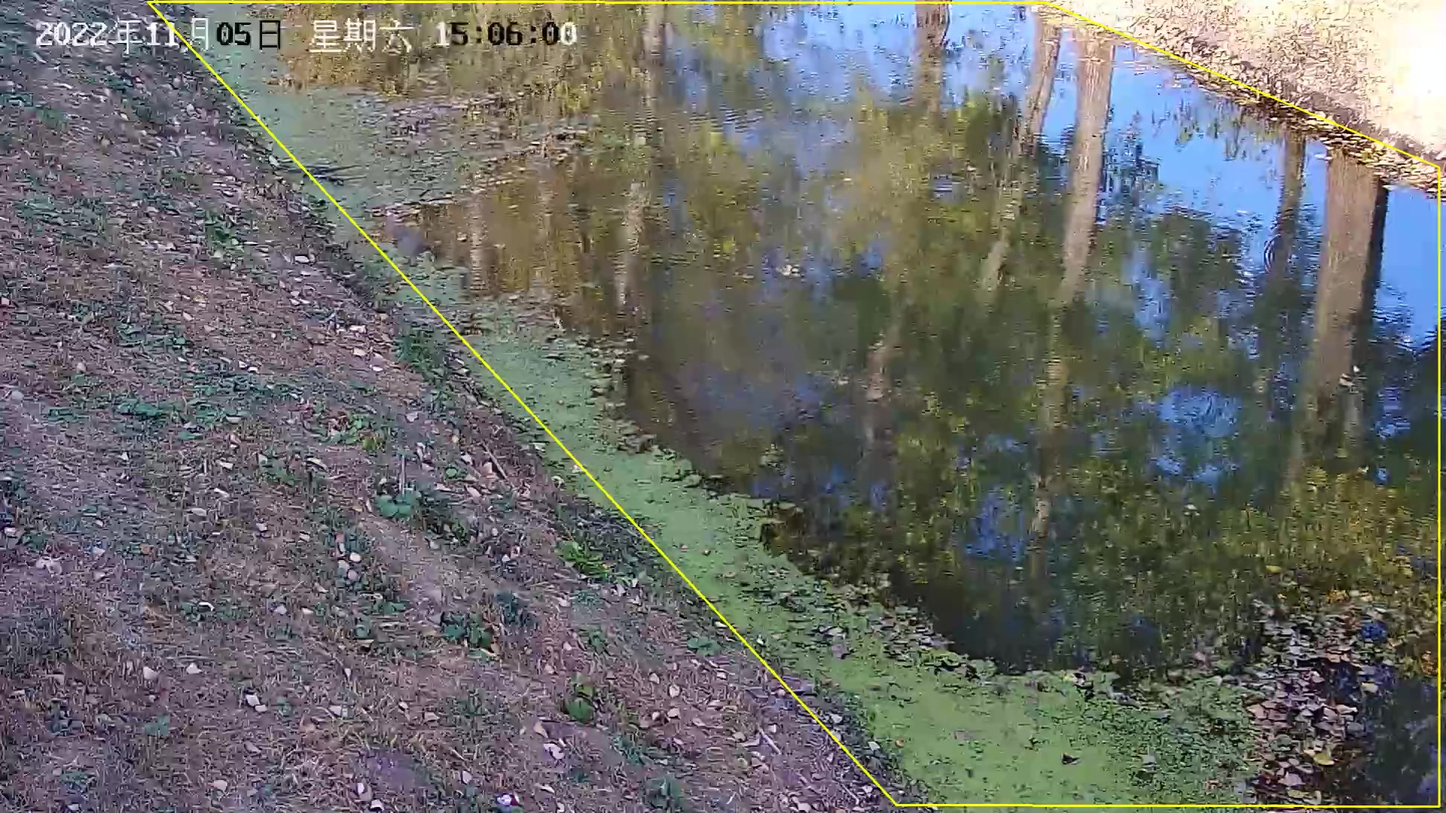floater: (350, 231, 828, 628), (773, 585, 1379, 813), (183, 1, 581, 235)
